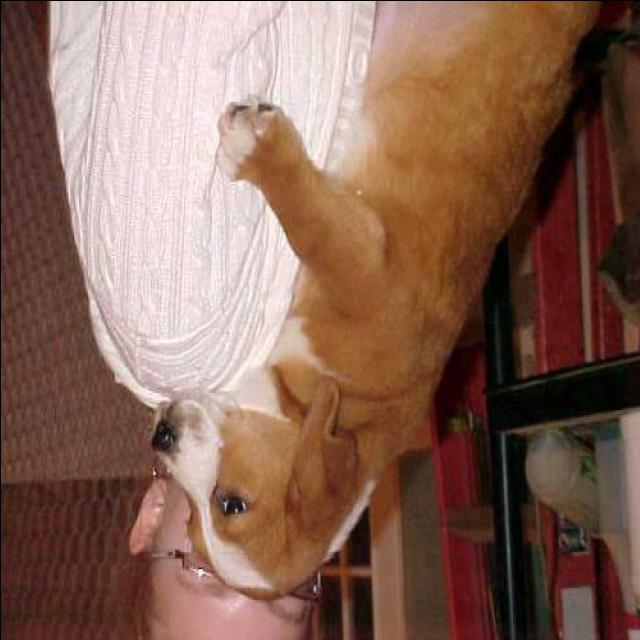dog: (115, 0, 599, 618)
